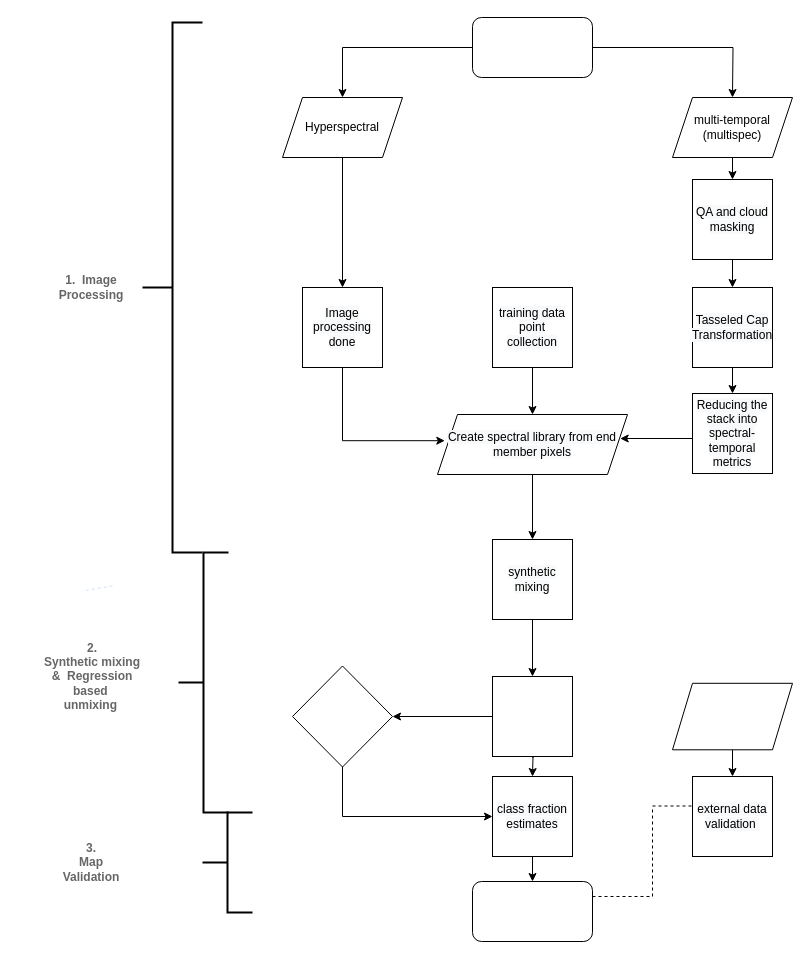
This 810x959 diagram has some shape labels left out. The shapes that lost their labels are listed below. From the top down, each one's centre as x and y in pixels, then its label:
At point (532, 47): "Methodology".
At point (342, 716): "Comparing SVM and RF".
At point (532, 716): "Regression model training".
At point (732, 716): "Land cover map from Cooper et al 2020".
At point (532, 911): "Final Map".
